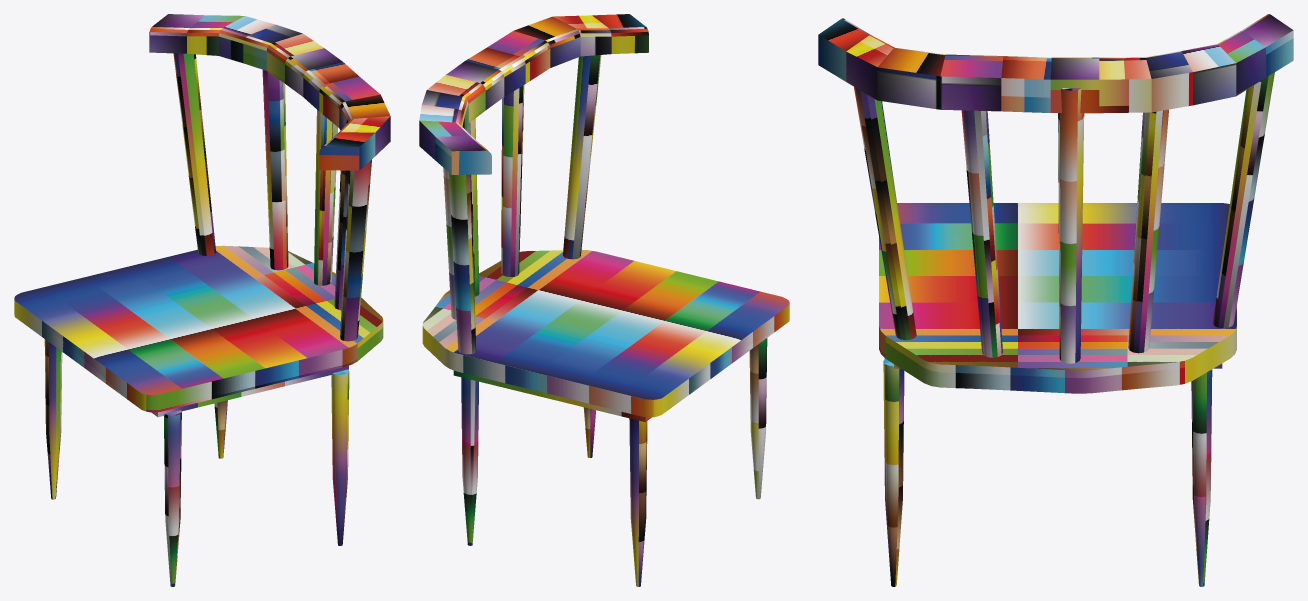
File: sandalye_yeni_yeni.fbx
The picture shows the model from 3 angles, left to right: view 1: azimuth 30°, elevation 25°; view 2: azimuth 150°, elevation 25°; view 3: azimuth 270°, elevation 25°; orthographic projection. The views are drawn at different scales.
Visible parts, largest first — view 1: Cylinder.001; view 2: Cylinder.001; view 3: Cylinder.001.
Part boxes in pixels (x1,y1,x2,y2): Cylinder.001: (14,14,390,586); Cylinder.001: (419,14,789,586); Cylinder.001: (818,14,1293,586).
Bounding box in the file's own units: 116 × 176 × 139.
